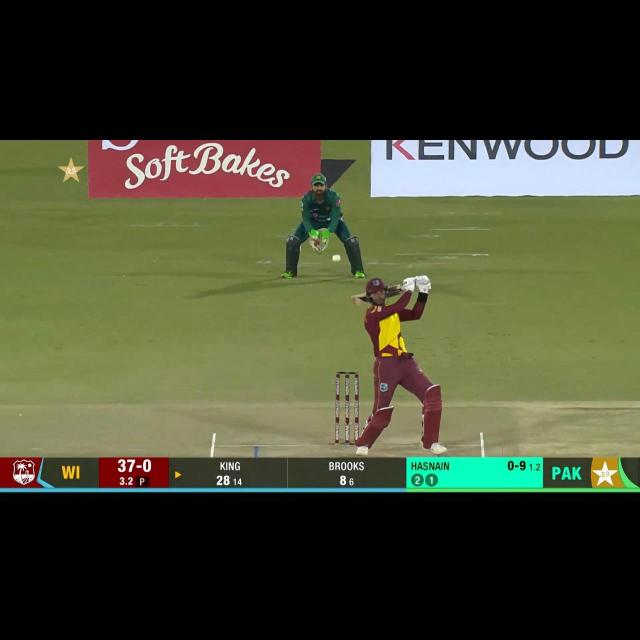bat: (355, 277, 424, 307)
toe: (351, 294, 364, 307)
